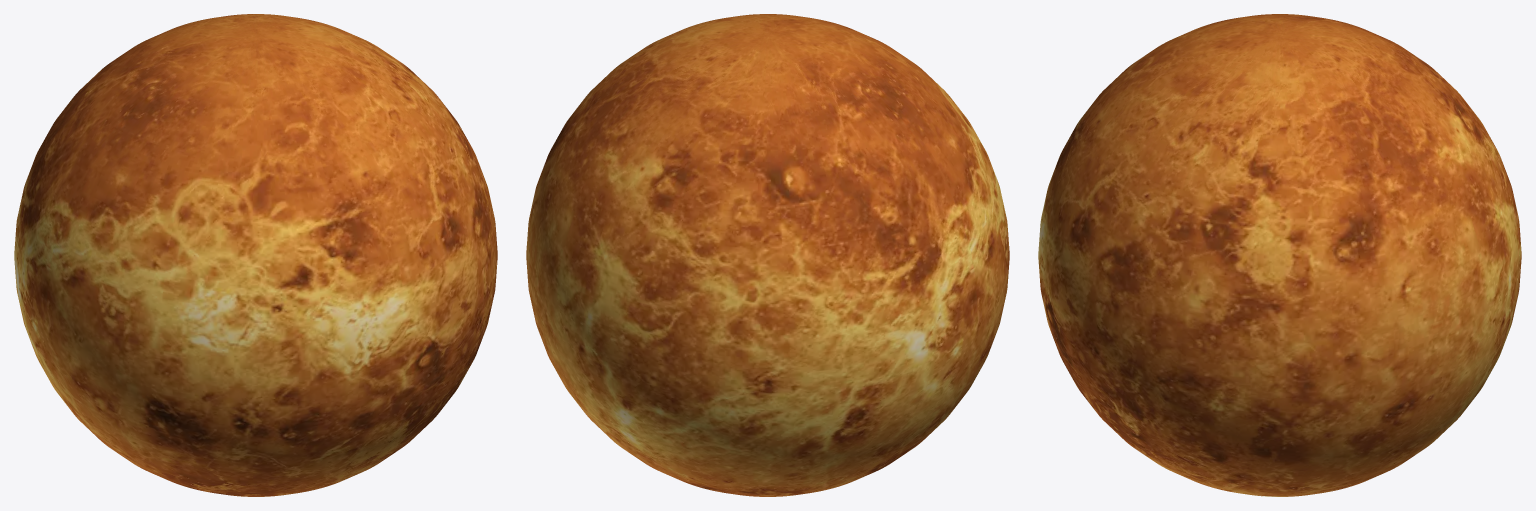
The model's file is venus-transformed.glb.
The picture shows the model from 3 angles, left to right: view 1: azimuth 30°, elevation 25°; view 2: azimuth 150°, elevation 25°; view 3: azimuth 270°, elevation 25°; orthographic projection.
Visible parts, largest first — view 1: Sphere; view 2: Sphere; view 3: Sphere.
Part boxes in pixels (bbox=[...]): Sphere: bbox=[14, 14, 497, 496]; Sphere: bbox=[526, 14, 1009, 496]; Sphere: bbox=[1038, 14, 1521, 496].
Bounding box in the file's own units: 200 × 200 × 200.
1 material, 1 textured.
